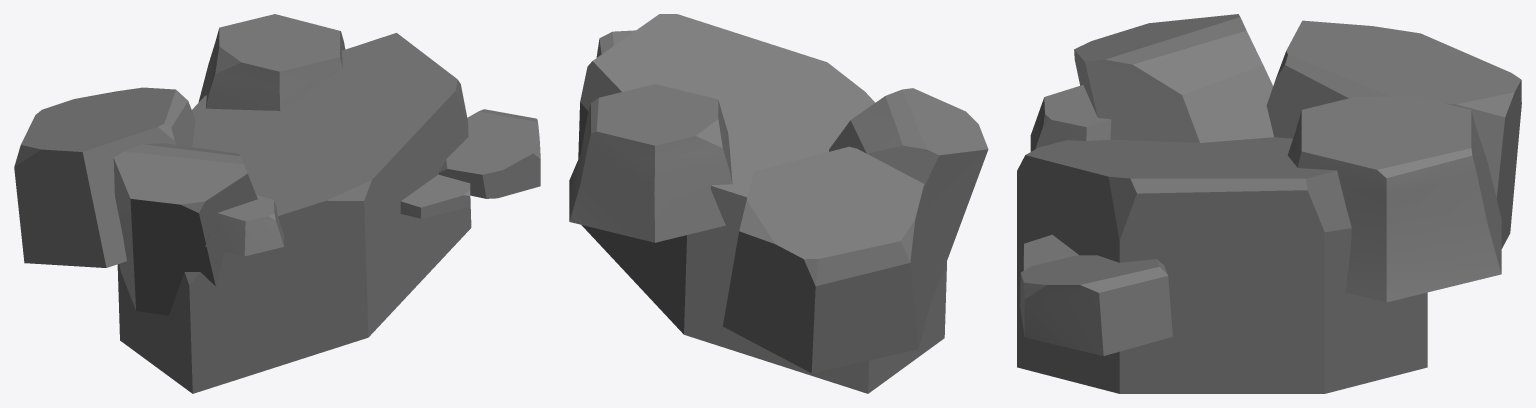
Rendered from rock_formation9.fbx.
3 renders of one model, left to right at view 1: azimuth 30°, elevation 25°; view 2: azimuth 150°, elevation 25°; view 3: azimuth 270°, elevation 25°, orthographic. The views are drawn at different scales.
Visible parts, largest first — view 1: rock; view 2: rock; view 3: rock.
Part boxes in pixels (<box>): rock: <box>14,14,540,393</box>; rock: <box>569,14,988,393</box>; rock: <box>1017,14,1521,393</box>.
Bounding box in the file's own units: 2415 × 1376 × 1810.
Materials: 1 (1 with a texture image).
